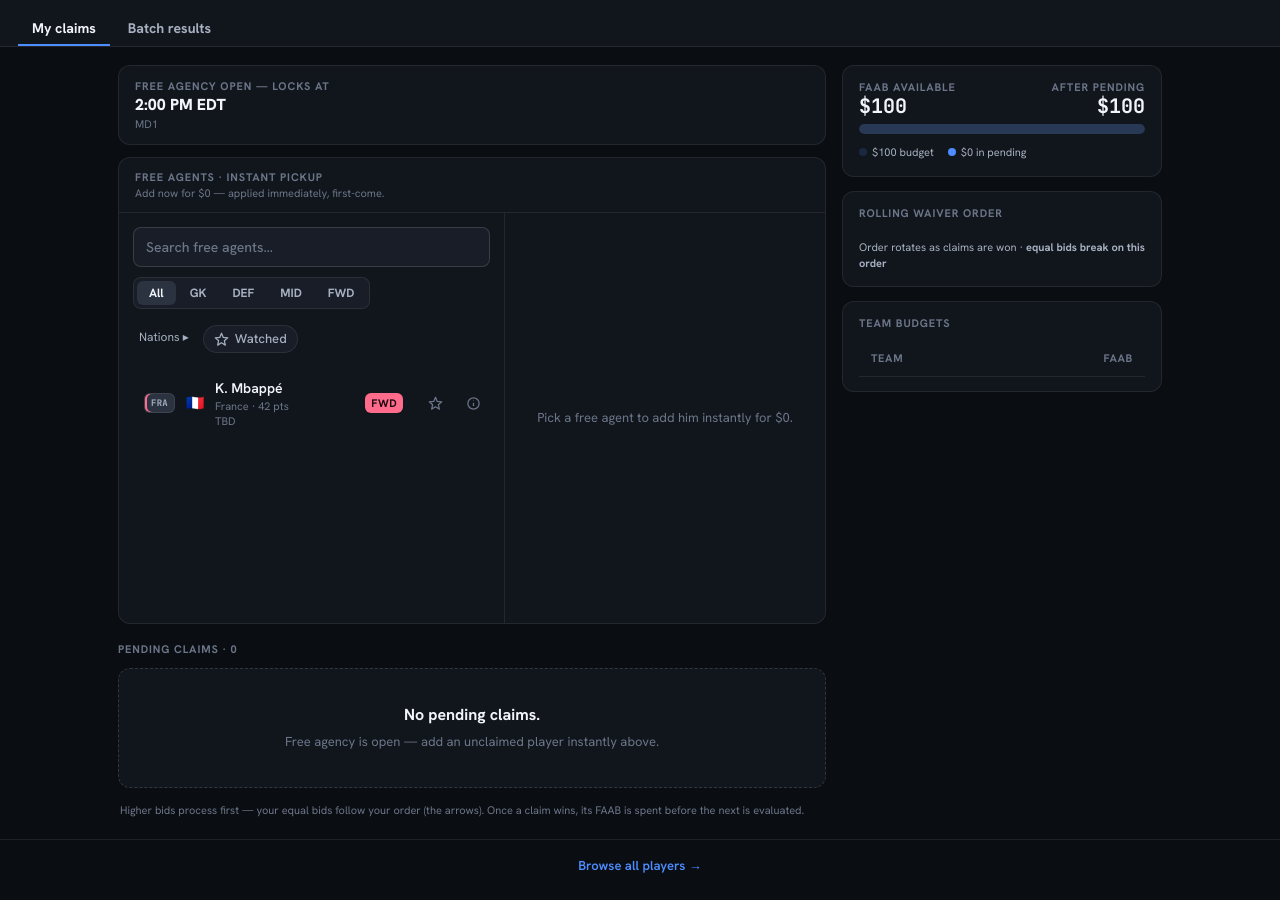
Test case: Free Agents / Waivers player card (open-vs-add resolution) › the existing select tap still selects (unchanged) and does NOT open the card
Click the button "FRA 🇫🇷 K. Mbappé France · 42 pts TBD FWD": x=274, y=403 [133, 369, 414, 437]
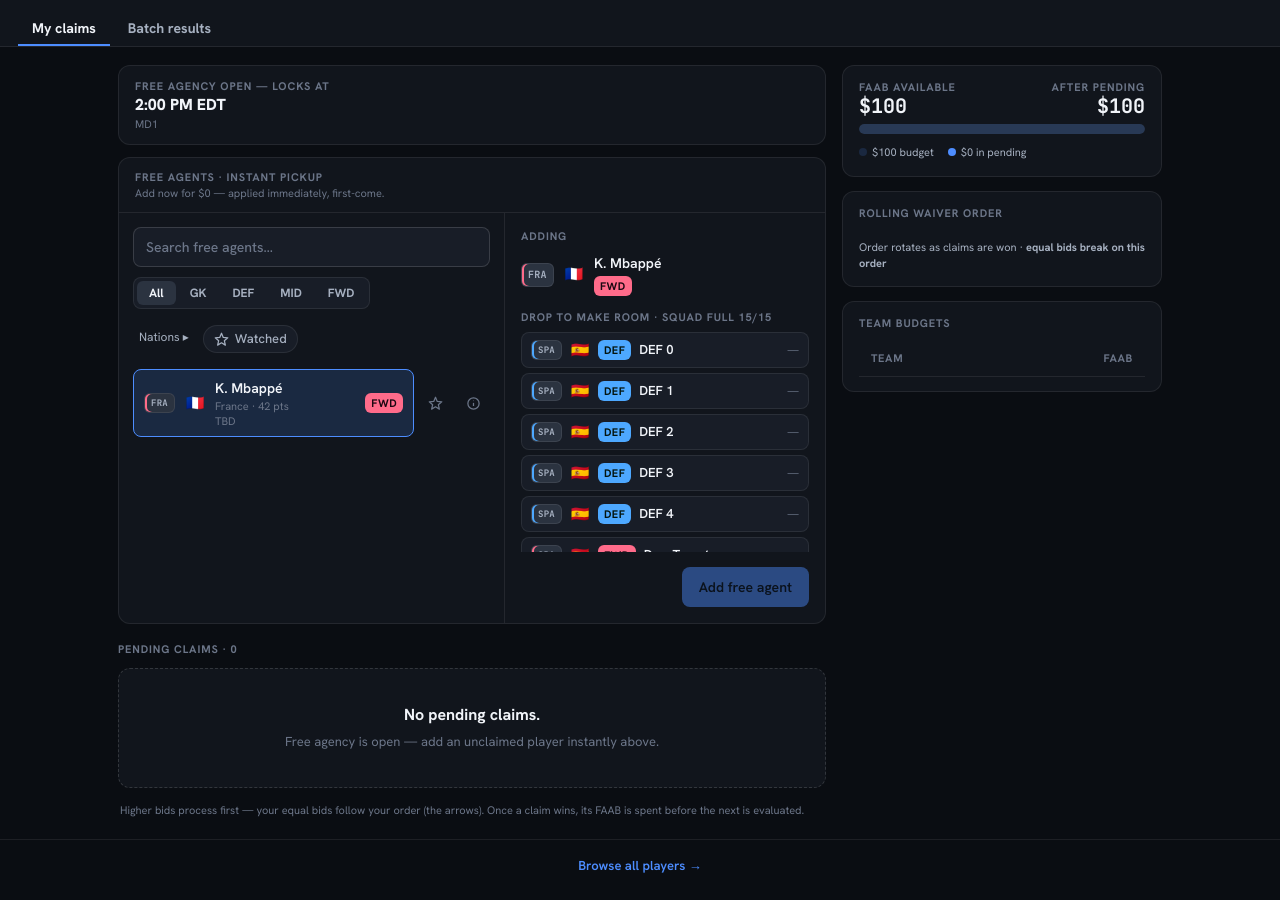
Result: the button "Add free agent" is shown at [682, 567, 809, 607]
